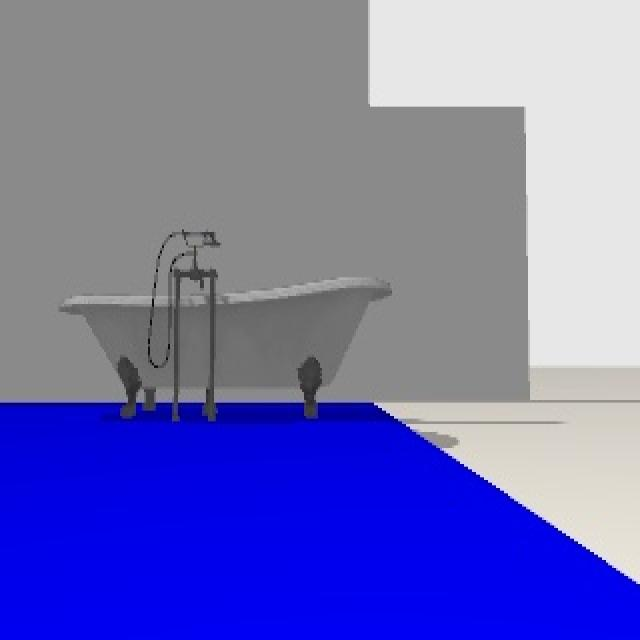bathtub: (60, 229, 394, 424)
